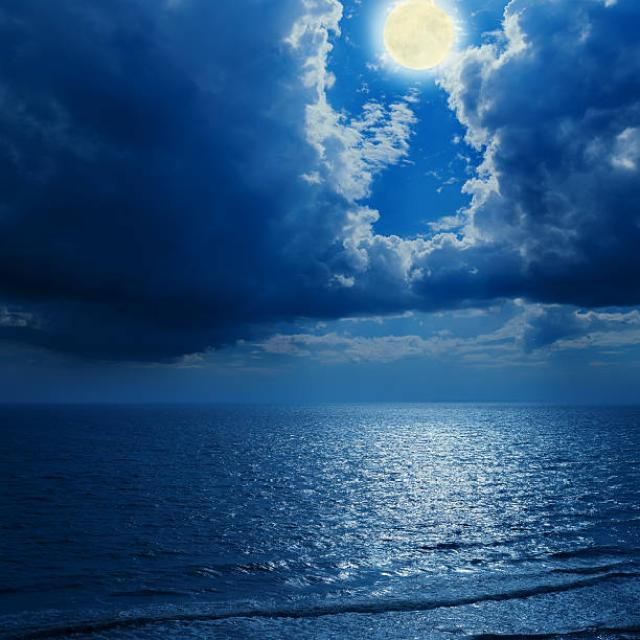moon: (366, 3, 469, 72)
